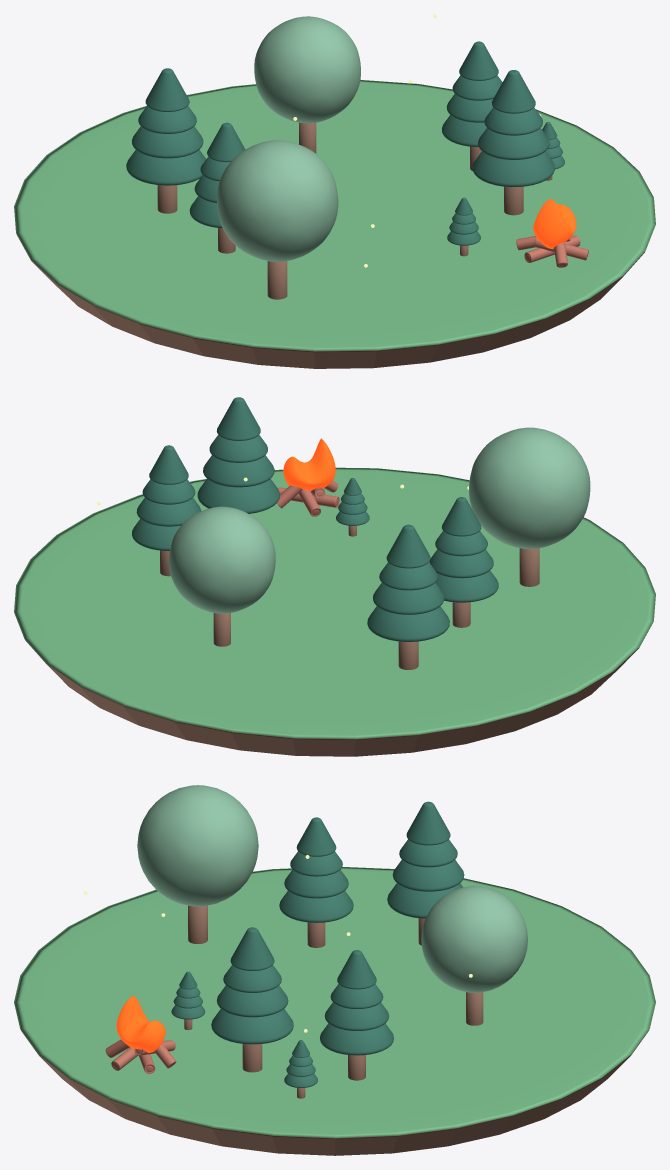
File: Camping-cabin-finalf.glb
The picture shows the model from 3 angles, top to bottom: view 1: azimuth 30°, elevation 25°; view 2: azimuth 150°, elevation 25°; view 3: azimuth 270°, elevation 25°; orthographic projection.
Visible parts, largest first — view 1: Grass_floor, tree2, tree2.001, base_dirt, tree1, tree1.003, tree1.001, tree1.002, fire, tree1.004, Circle.002, Circle.004 (+2 smaller); view 2: Grass_floor, tree2, tree2.001, base_dirt, tree1.003, tree1, tree1.002, tree1.001, fire, tree1.004, Circle.002, Circle.005 (+1 smaller); view 3: Grass_floor, tree2, tree2.001, base_dirt, tree1, tree1.003, tree1.001, tree1.002, fire, tree1.004, tree1.005, Circle.002 (+2 smaller).
Part boxes in pixels (x1,y1,x2,y2): Grass_floor: (14, 80, 655, 351); tree2: (217, 140, 338, 261); tree2.001: (254, 16, 360, 123); base_dirt: (17, 236, 645, 368); tree1: (472, 70, 554, 187); tree1.003: (126, 68, 206, 185); tree1.001: (442, 41, 502, 146); tree1.002: (189, 122, 245, 228); fire: (533, 199, 576, 248); tree1.004: (447, 197, 480, 245); Circle.002: (267, 261, 287, 299); Circle.004: (157, 185, 177, 213); Grass_floor: (14, 467, 655, 738); tree2: (469, 427, 590, 549); tree2.001: (169, 506, 275, 613); base_dirt: (24, 622, 653, 756); tree1.003: (367, 524, 449, 641); tree1: (197, 397, 279, 513); tree1.002: (429, 497, 498, 602); tree1.001: (132, 445, 201, 550); fire: (283, 438, 335, 491); tree1.004: (336, 478, 369, 525); Circle.002: (519, 548, 539, 586); Circle.005: (213, 613, 230, 646); Grass_floor: (14, 867, 655, 1137); tree2: (137, 785, 258, 906); tree2.001: (421, 886, 527, 992); base_dirt: (21, 1030, 648, 1155); tree1: (211, 927, 293, 1044); tree1.003: (387, 801, 464, 918); tree1.001: (320, 950, 393, 1055); tree1.002: (279, 817, 353, 922); fire: (116, 996, 165, 1052); tree1.004: (171, 971, 205, 1019); tree1.005: (284, 1040, 317, 1087); Circle.002: (188, 905, 207, 943).
Size of the model in its own units: 9.78 by 3.02 by 9.78.
